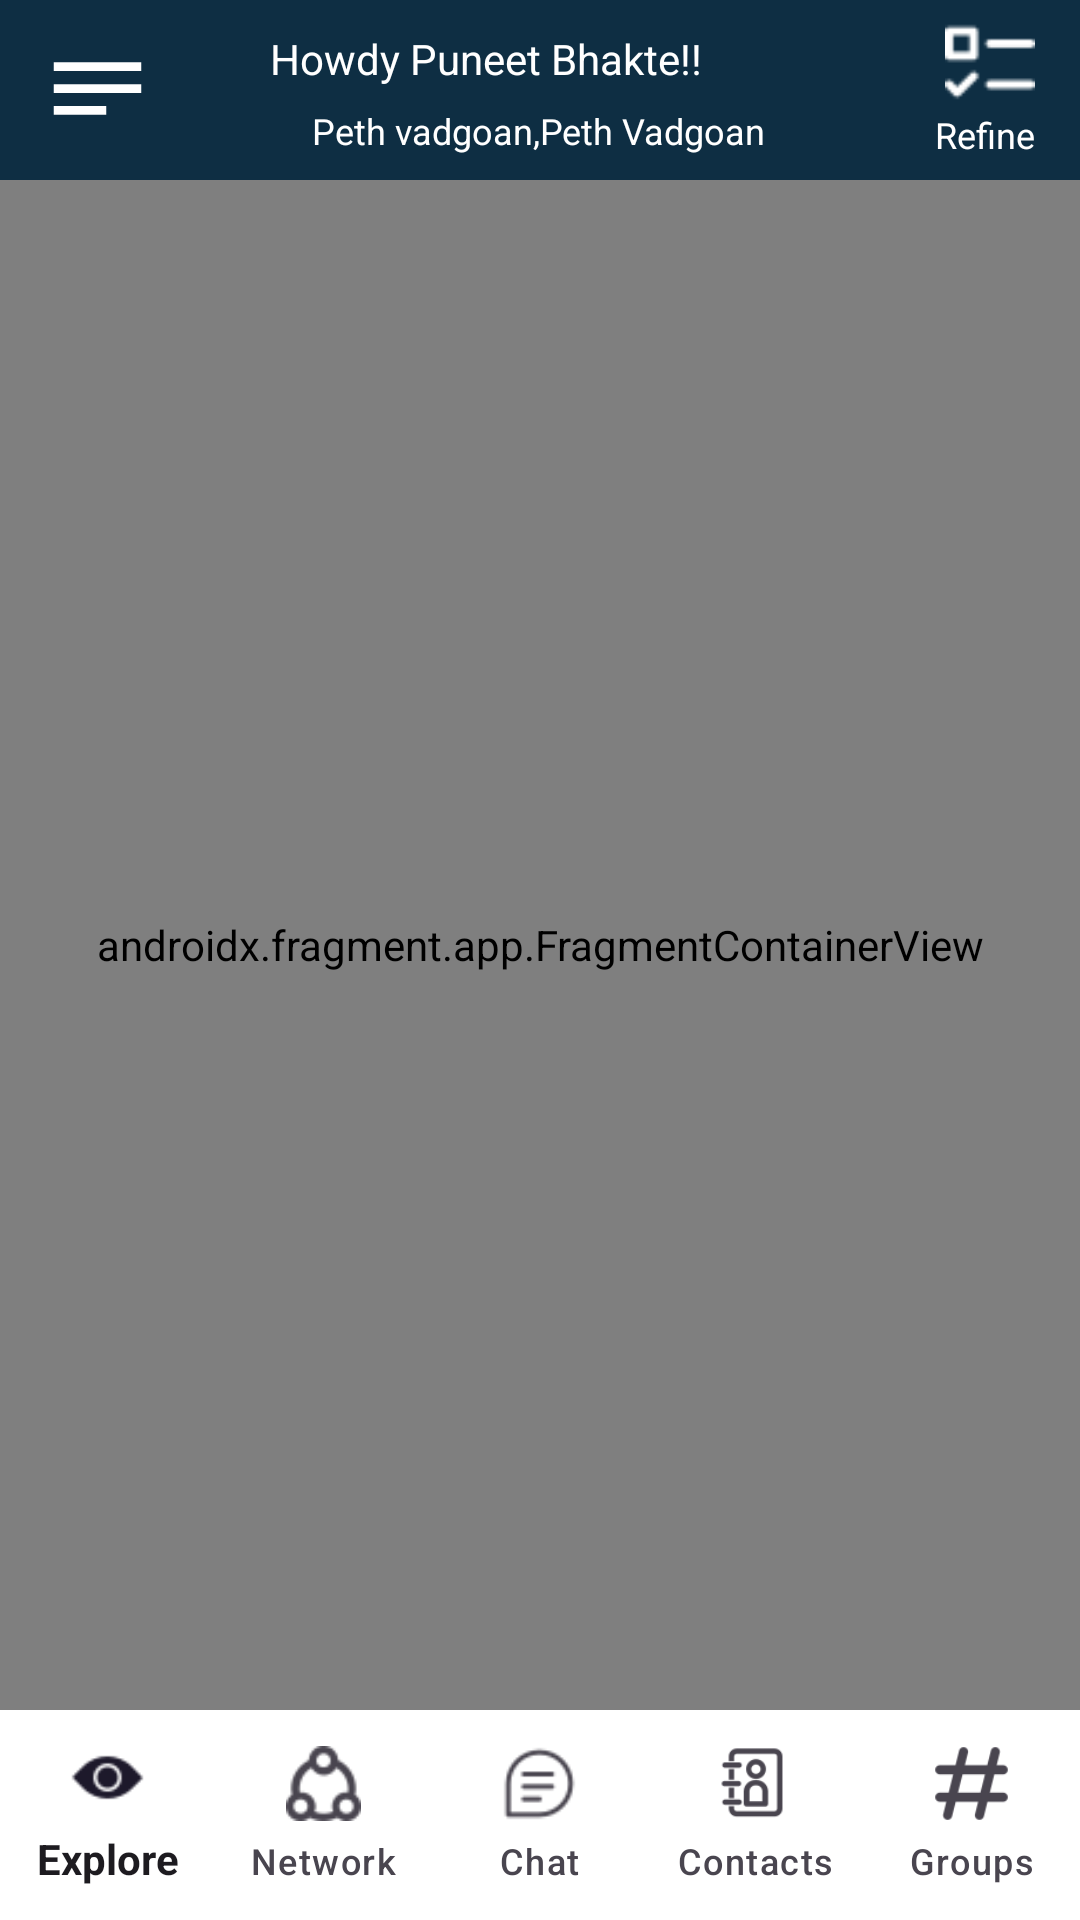

Screen size 1080 × 1920. Icon name, then its center in pixels as (x=x, y=y):
checklist: (x=990, y=62)
subject: (x=97, y=88)
